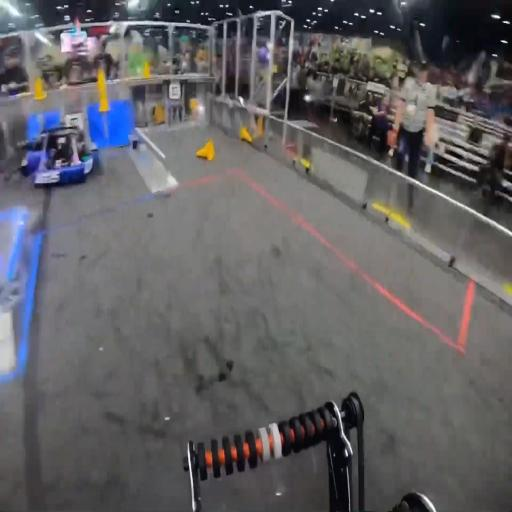robot: (20, 122, 98, 188)
